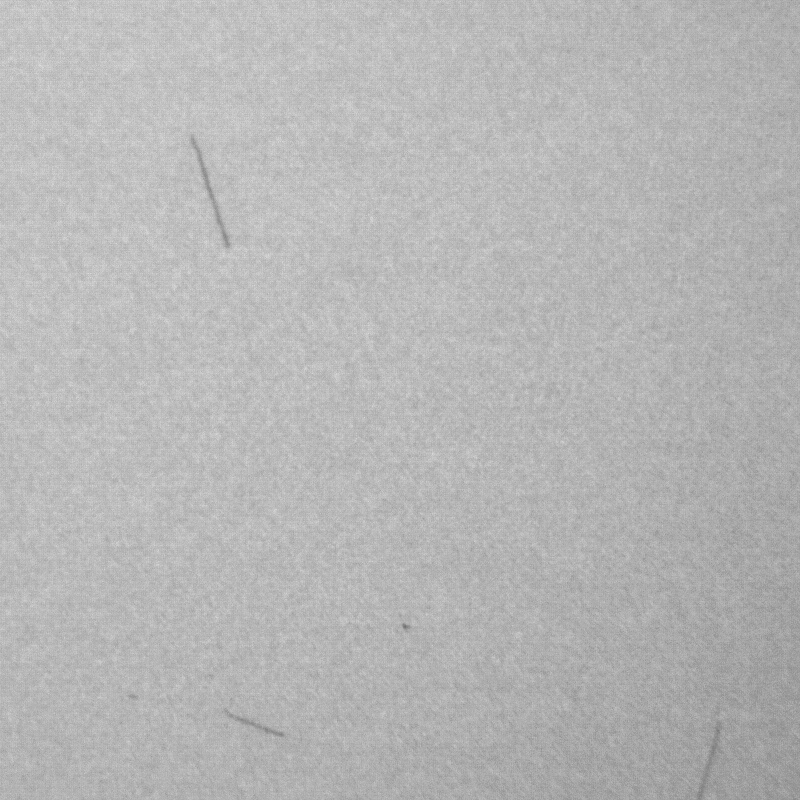defect: (190, 134, 235, 256), (688, 726, 722, 800), (222, 707, 291, 739), (398, 619, 413, 633)
